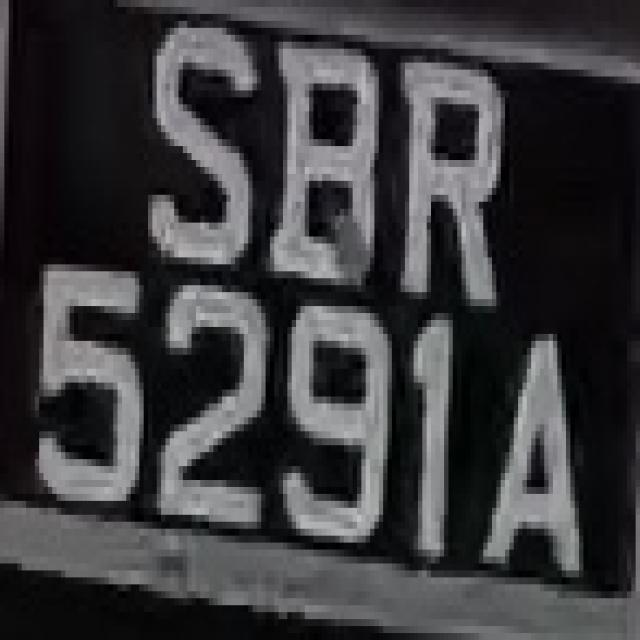1: (396, 264, 466, 578)
2: (144, 271, 278, 550)
5: (30, 222, 144, 536)
9: (270, 272, 409, 578)
A: (479, 299, 605, 578)
B: (266, 35, 383, 299)
R: (388, 21, 505, 334)
S: (139, 0, 261, 264)
